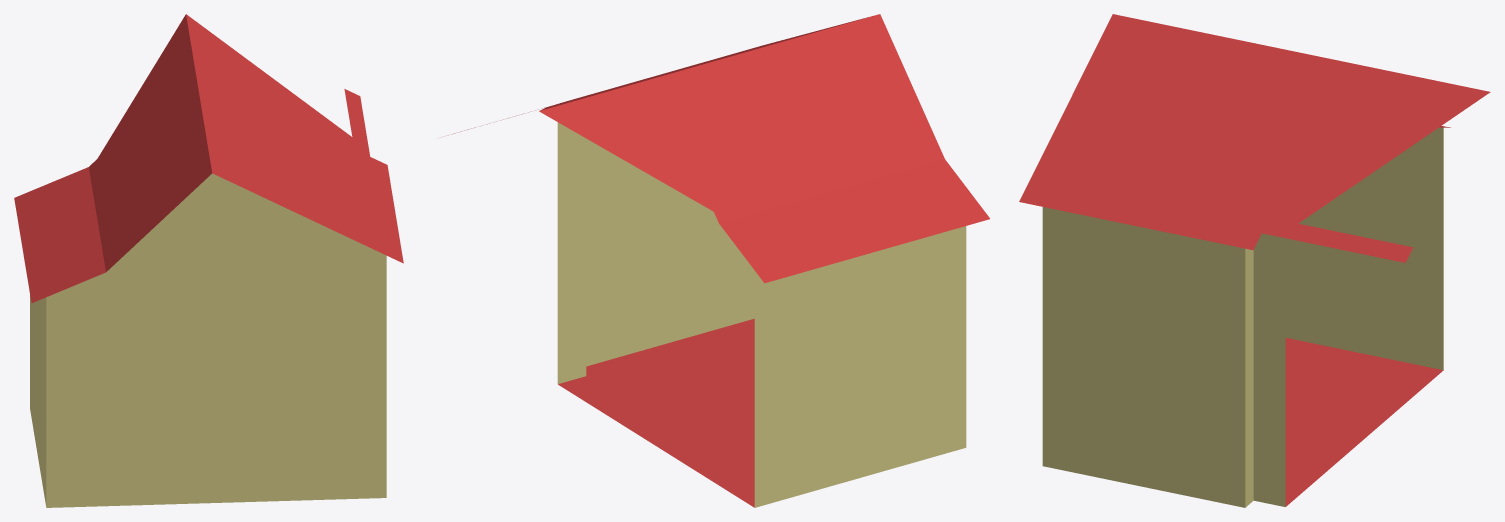
3 views of the same model, side by side, from view 1: azimuth 30°, elevation 25°; view 2: azimuth 150°, elevation 25°; view 3: azimuth 270°, elevation 25° (orthographic). The views are drawn at different scales.
Size of the model in its own units: 15.22 by 13.29 by 11.64.
